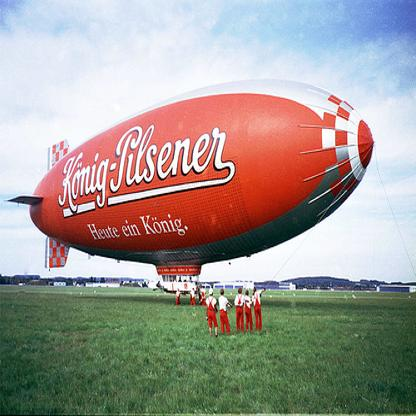Airship: (7, 71, 374, 297)
